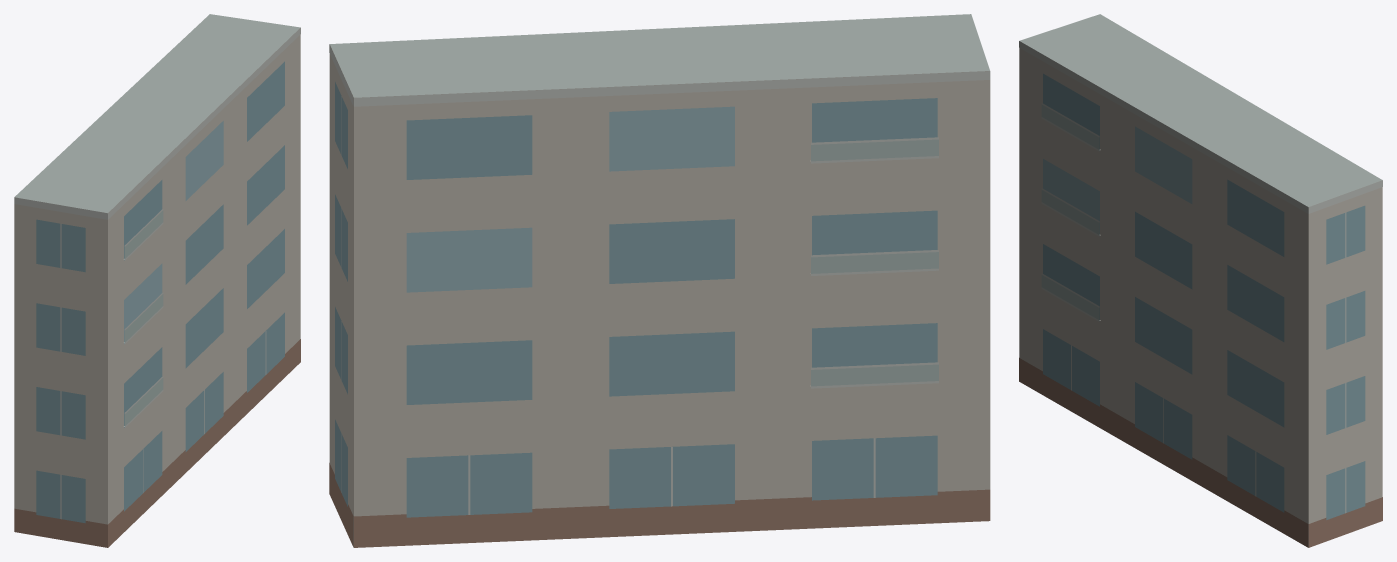
File: survey-upis-32510921.glb
The picture shows the model from 3 angles, left to right: view 1: azimuth 30°, elevation 25°; view 2: azimuth 150°, elevation 25°; view 3: azimuth 270°, elevation 25°; orthographic projection. The views are drawn at different scales.
Parts seen in each view (by area): view 1: survey-upis-32510921.tmp; view 2: survey-upis-32510921.tmp; view 3: survey-upis-32510921.tmp.
Part boxes in pixels (left/top/right/bottom): survey-upis-32510921.tmp: left=14, top=14, right=300, bottom=547; survey-upis-32510921.tmp: left=329, top=14, right=990, bottom=547; survey-upis-32510921.tmp: left=1019, top=14, right=1382, bottom=547.
Size of the model in its own units: 14.84 by 12.2 by 11.81.
